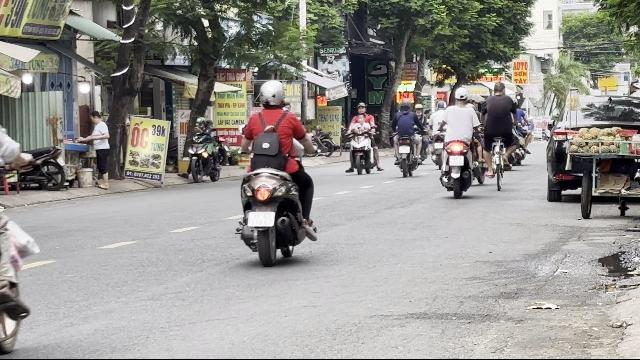helmet: (258, 80, 286, 109)
licenseplate: (248, 212, 274, 228)
motorcyclist: (232, 78, 318, 266)
